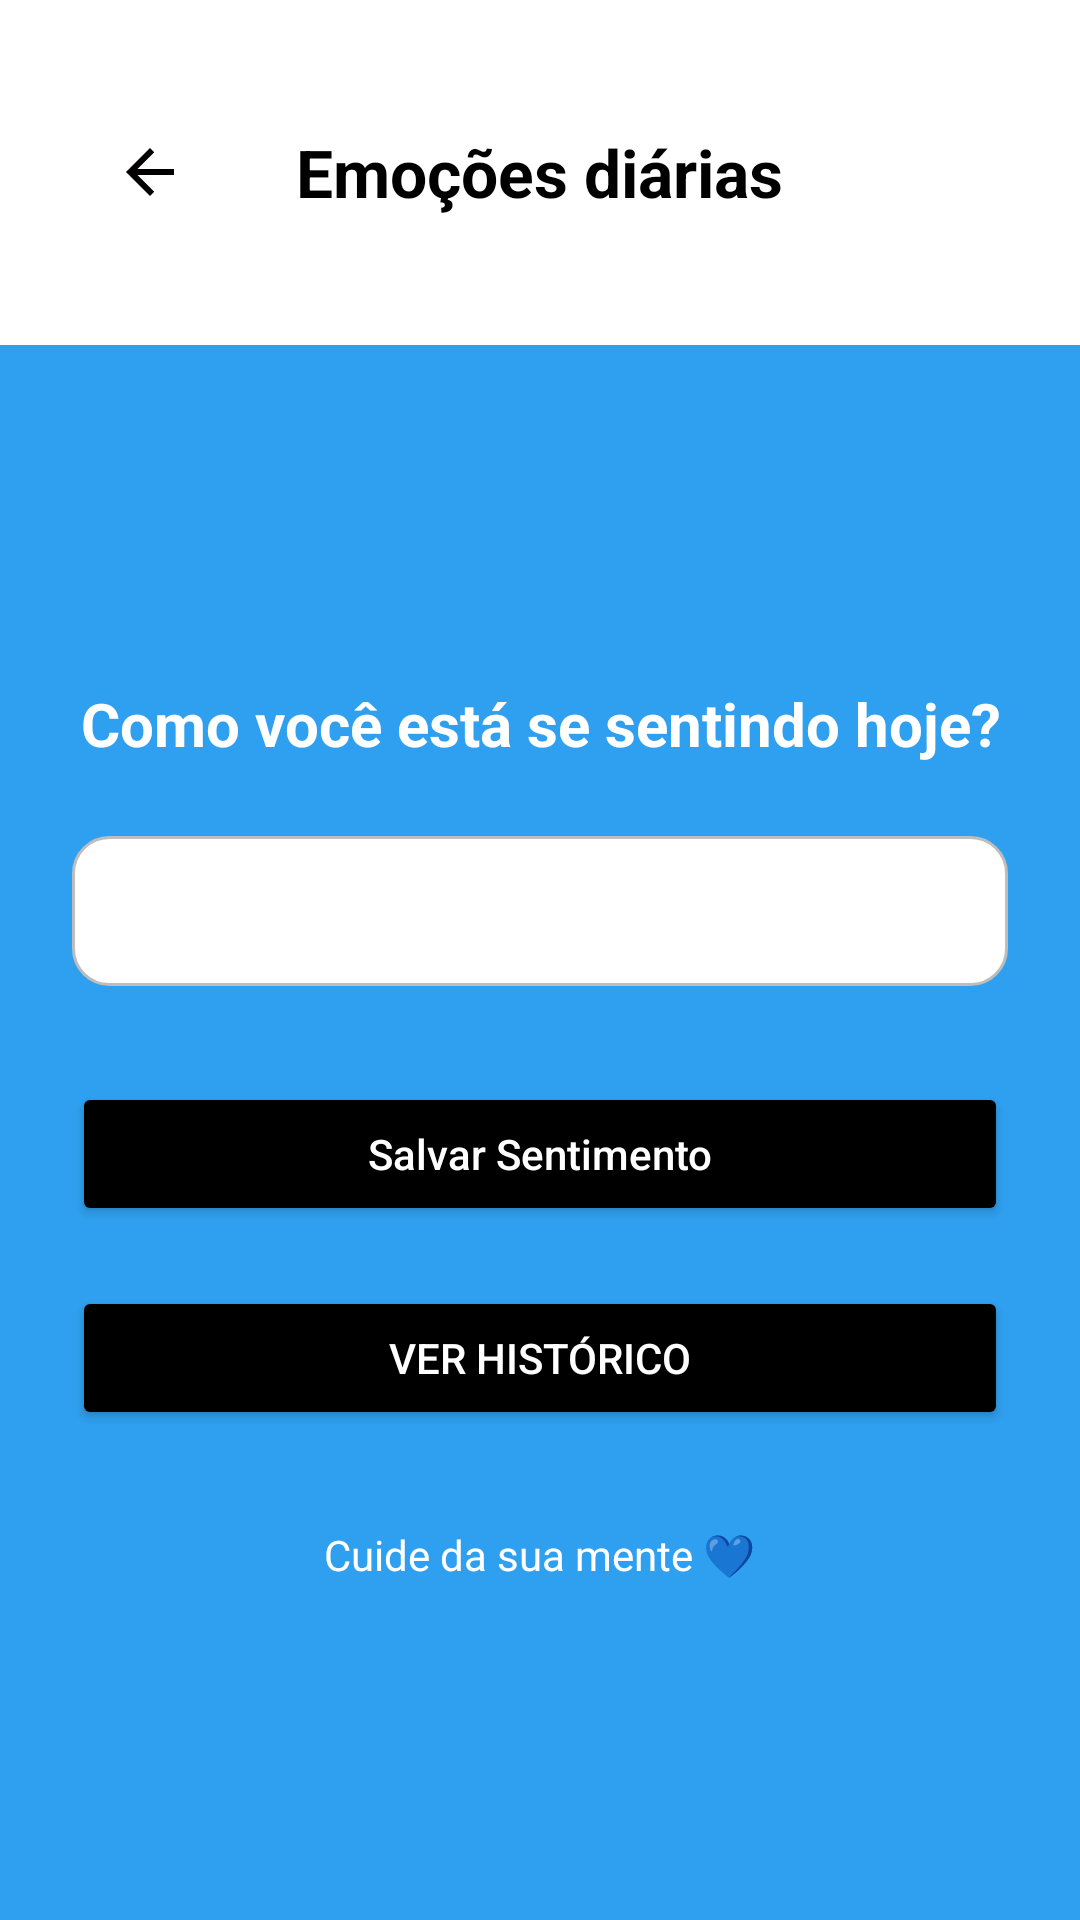

Screen size 1080px×1920px. Icon name, then its box in pixels as (x1, y1, x2, y2):
Voltar: (126, 148, 174, 196)
